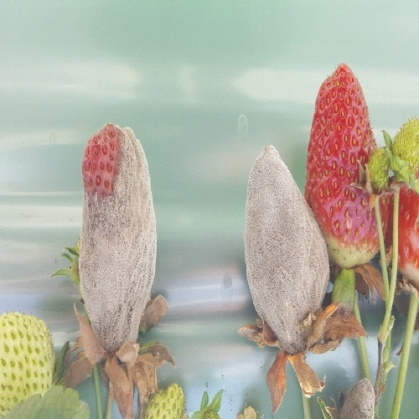Gray_Mold: (42, 0, 339, 416), (103, 64, 341, 349), (89, 65, 289, 355)
